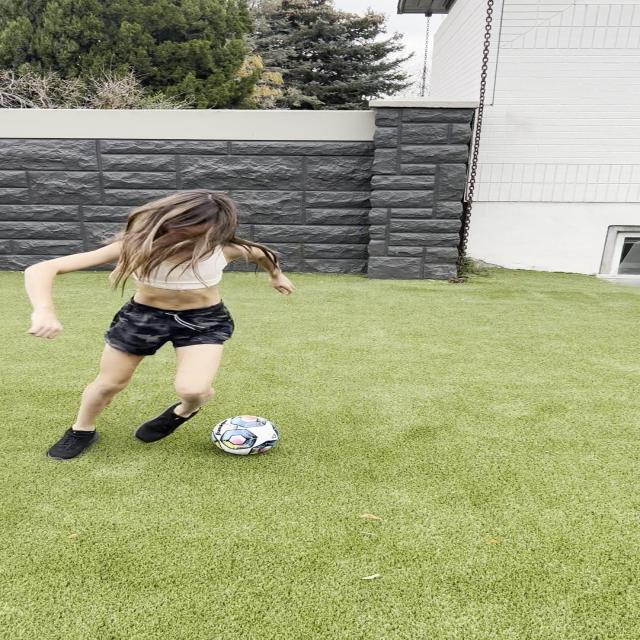Soccer Ball: (210, 415, 278, 455)
